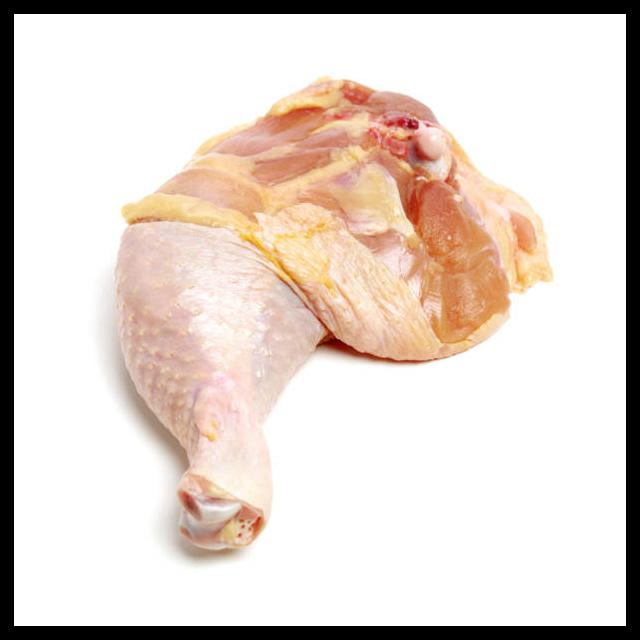chicken: (113, 75, 560, 552)
